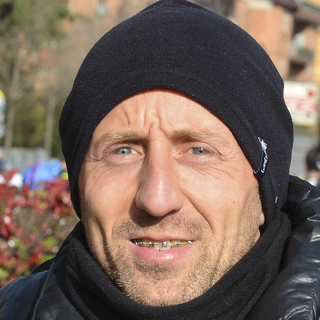eye: (173, 142, 217, 161), (101, 142, 143, 160)
